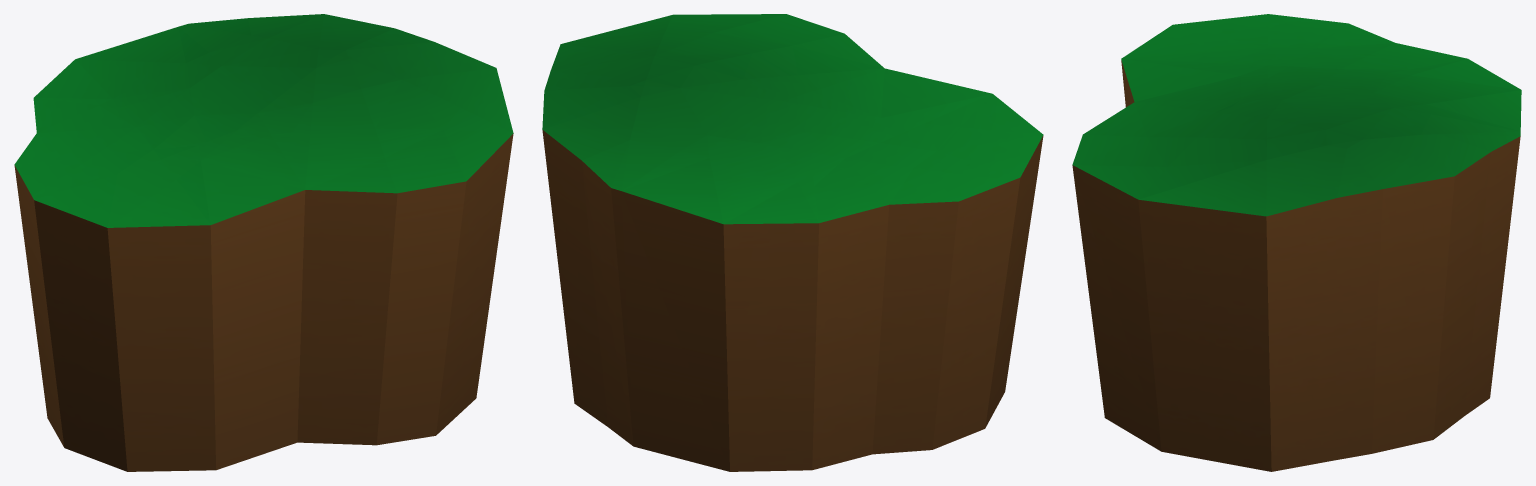
Rendered from small_island.glb.
3 views of the same model, side by side, from view 1: azimuth 30°, elevation 25°; view 2: azimuth 150°, elevation 25°; view 3: azimuth 270°, elevation 25° (orthographic).
Parts seen in each view (by area): view 1: island; view 2: island; view 3: island.
Part boxes in pixels (x1,y1,x2,y2): island: (14,14,513,471); island: (542,14,1043,471); island: (1072,14,1521,471).
Bounding box in the file's own units: 1.86 × 1.13 × 1.59.
Materials: 1 (1 with a texture image).
